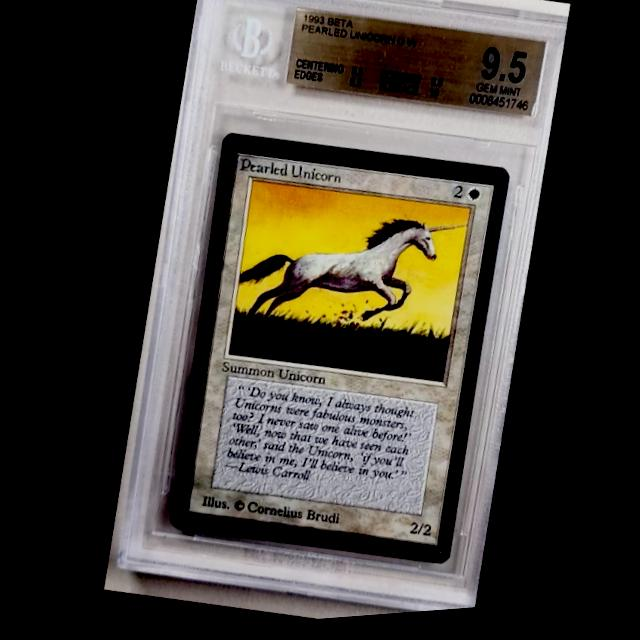bgs_label: (284, 11, 547, 127)
bgs_slab: (108, 0, 567, 618)
card: (161, 133, 510, 572)
